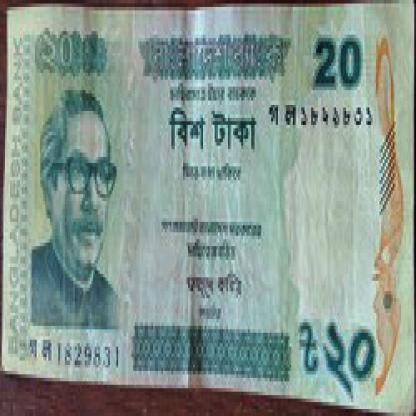Twenty: (163, 104, 265, 166), (300, 322, 380, 399), (296, 31, 378, 104), (42, 28, 114, 90)
